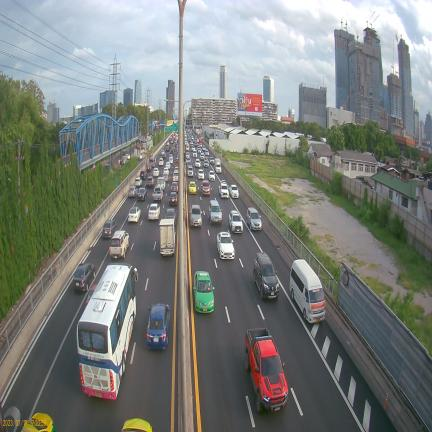bus: (77, 264, 138, 399), (199, 137, 202, 145)
car: (253, 253, 279, 299), (147, 303, 170, 349), (22, 413, 56, 432), (72, 263, 95, 291), (217, 232, 234, 259), (122, 418, 153, 432), (246, 208, 262, 230), (208, 199, 222, 224), (229, 210, 243, 233), (190, 204, 202, 227), (85, 283, 97, 306), (102, 220, 117, 238), (148, 203, 160, 220), (165, 208, 177, 225), (128, 207, 141, 222), (152, 186, 163, 201), (219, 182, 229, 198), (201, 180, 210, 196), (137, 187, 147, 201), (229, 184, 239, 198), (169, 192, 178, 206), (128, 185, 138, 197), (188, 181, 197, 194), (134, 176, 142, 188), (146, 176, 154, 187), (171, 181, 178, 192), (208, 170, 215, 181), (140, 169, 146, 181), (172, 171, 178, 182), (187, 166, 193, 177), (198, 169, 204, 179), (153, 167, 159, 177), (163, 172, 168, 183), (150, 160, 156, 169), (195, 158, 200, 168), (203, 160, 209, 168), (163, 167, 169, 175), (165, 162, 171, 170), (149, 156, 155, 164), (146, 164, 152, 172), (192, 149, 197, 158), (137, 153, 143, 160), (159, 158, 164, 166), (169, 154, 173, 164), (161, 150, 166, 158), (200, 152, 205, 160), (125, 154, 131, 160), (186, 157, 191, 164), (209, 157, 214, 164), (205, 149, 209, 157), (3, 419, 8, 425), (186, 151, 190, 158), (186, 144, 189, 151), (10, 426, 12, 430), (15, 426, 18, 428), (153, 164, 154, 166), (14, 429, 15, 430), (5, 429, 6, 430), (14, 423, 15, 424), (8, 429, 8, 430), (2, 429, 2, 430), (2, 425, 2, 426), (2, 426, 2, 428)
pickup: (245, 328, 288, 412)
taxi: (193, 271, 214, 313)
truck: (159, 219, 175, 255), (156, 176, 166, 190), (215, 158, 222, 173), (199, 137, 202, 145)
van: (290, 259, 325, 323), (109, 230, 129, 258), (156, 176, 166, 190)
